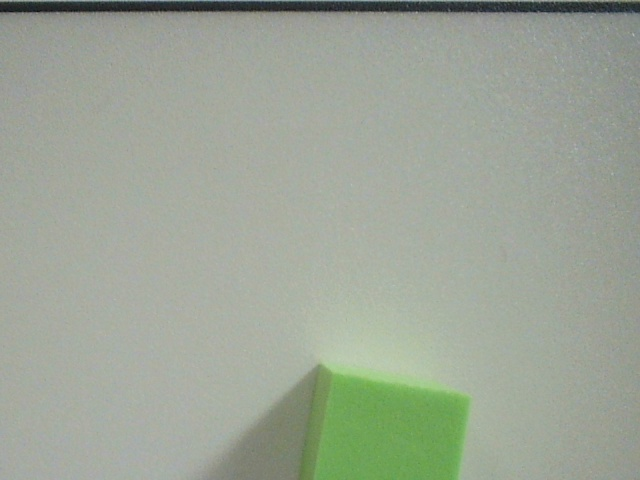greencube: (287, 360, 478, 480)
